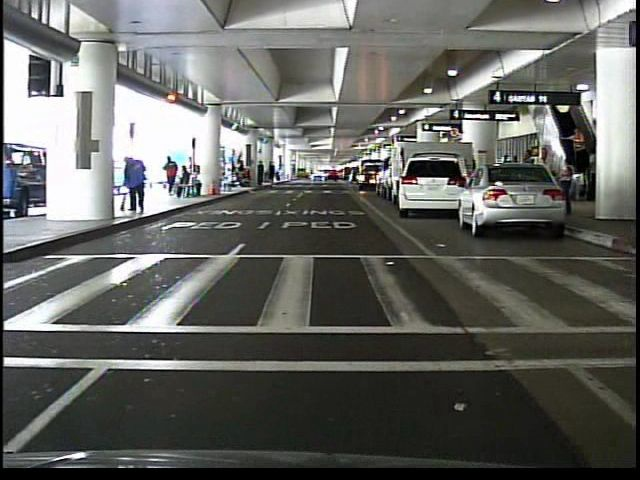person: (123, 152, 152, 216), (564, 122, 589, 171)
